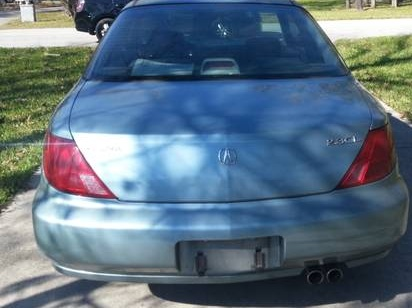acura: (29, 1, 412, 293)
